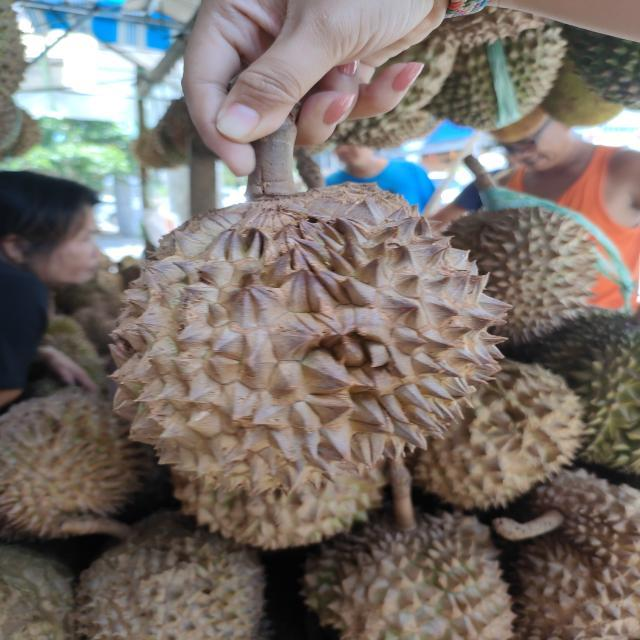mature: (104, 184, 512, 504), (397, 360, 588, 512), (404, 208, 602, 350), (0, 384, 146, 531)
